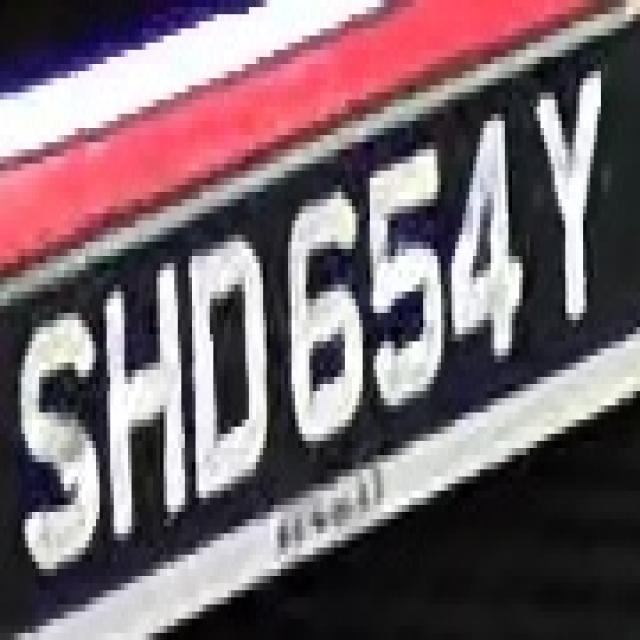4: (441, 85, 537, 377)
5: (356, 135, 444, 420)
6: (278, 178, 367, 469)
D: (182, 228, 270, 512)
H: (92, 242, 188, 562)
S: (21, 278, 103, 590)
Y: (526, 64, 608, 334)
